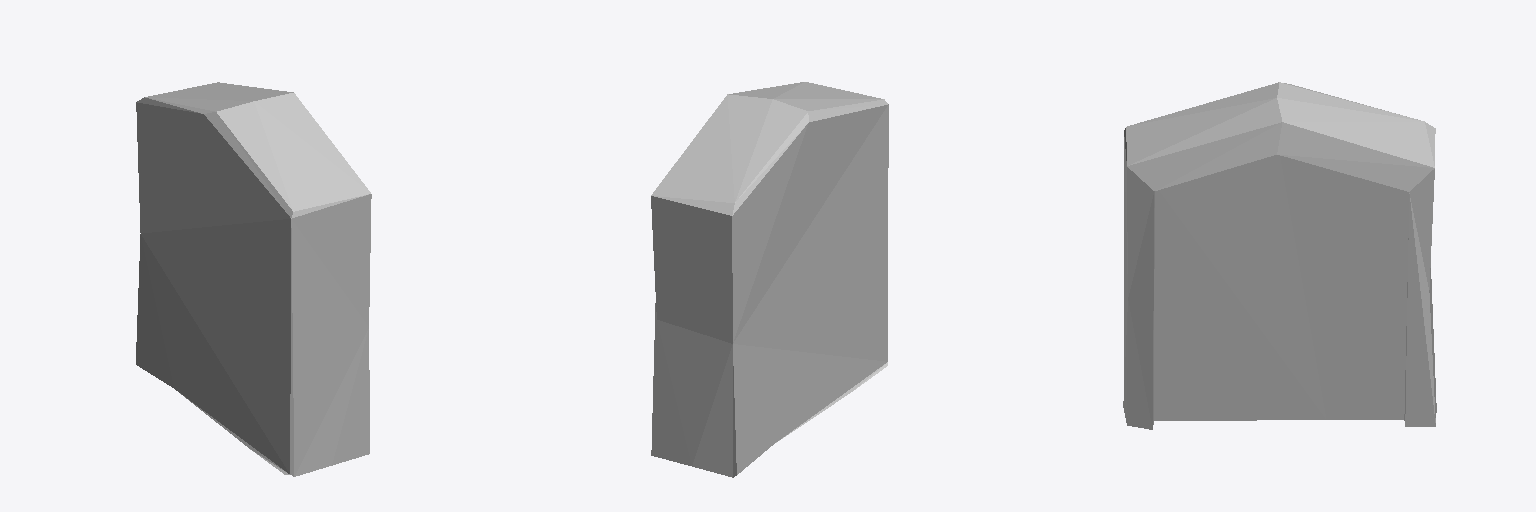
The model's file is clock1.obj.
The picture shows the model from 3 angles: view 1: azimuth 30°, elevation 25°; view 2: azimuth 150°, elevation 25°; view 3: azimuth 270°, elevation 25°; orthographic projection.
Bounding box in the file's own units: 0.0643 × 0.2073 × 0.1879.